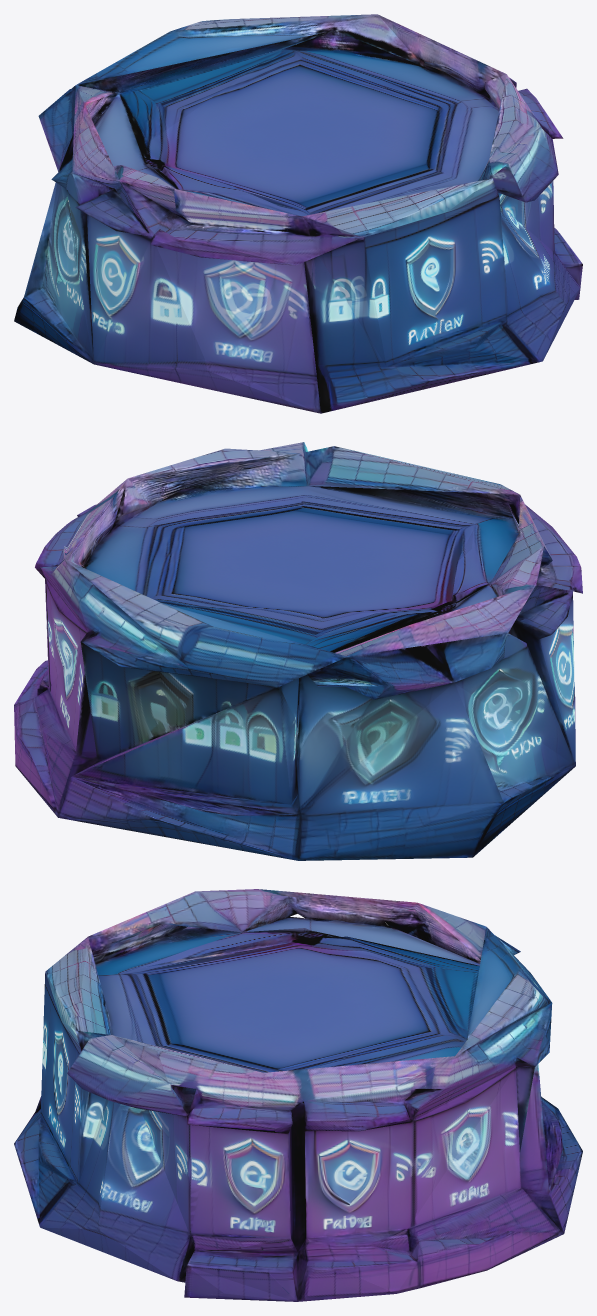
Rendered from platform.glb.
3 renders of one model, top to bottom at view 1: azimuth 30°, elevation 25°; view 2: azimuth 150°, elevation 25°; view 3: azimuth 270°, elevation 25°, orthographic. The views are drawn at different scales.
Visible parts, largest first — view 1: model; view 2: model; view 3: model.
Part boxes in pixels (<box>): model: <box>14,14,582,413</box>; model: <box>14,442,582,860</box>; model: <box>14,889,582,1301</box>.
Bounding box in the file's own units: 1.79 × 0.7413 × 1.82.
Materials: 1 (1 with a texture image).
